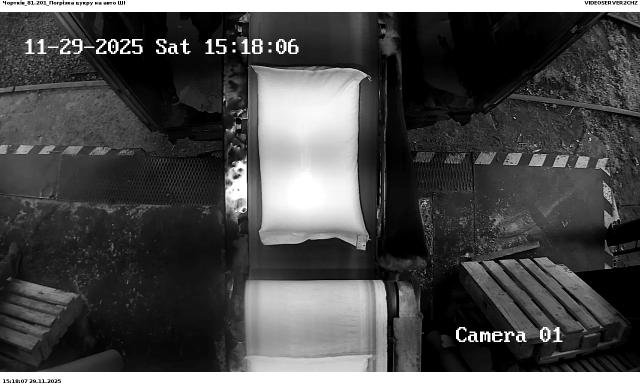bag: (252, 65, 370, 250), (247, 356, 374, 372)
